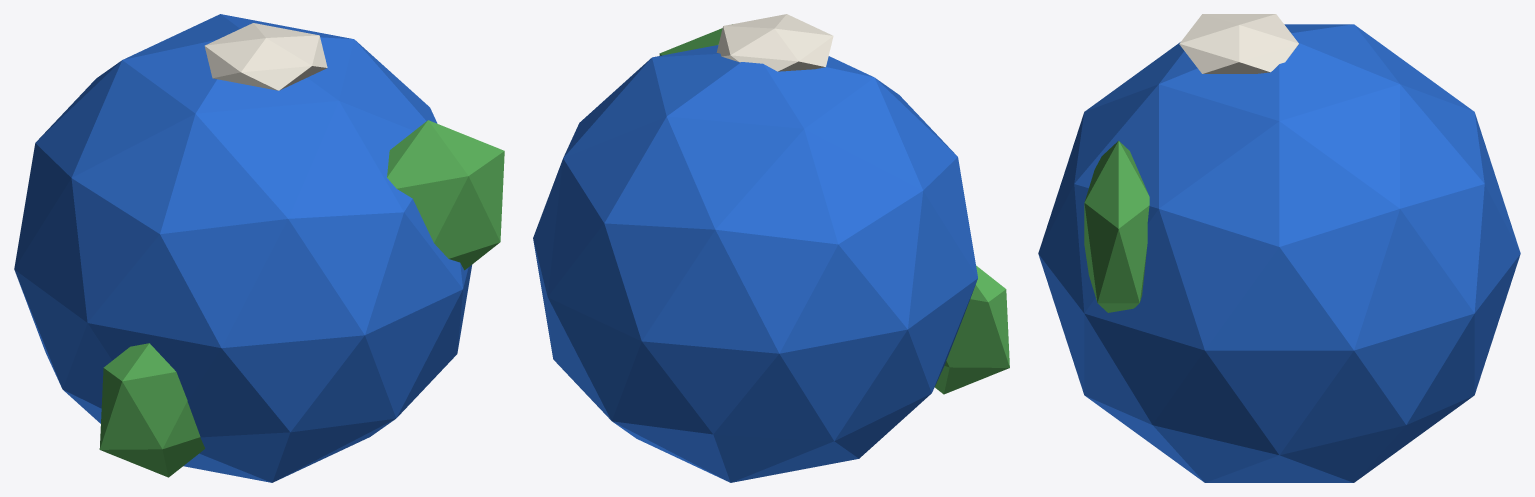
File: lowpoly-planet_earth.glb
The picture shows the model from 3 angles, left to right: view 1: azimuth 30°, elevation 25°; view 2: azimuth 150°, elevation 25°; view 3: azimuth 270°, elevation 25°; orthographic projection. The views are drawn at different scales.
Visible parts, largest first — view 1: planet_earth; view 2: planet_earth; view 3: planet_earth.
Boxes of the visible parts, x1,y1,x2,y2 form: planet_earth: [14, 14, 504, 482]; planet_earth: [533, 14, 1009, 482]; planet_earth: [1038, 14, 1520, 482].
Size of the model in its own units: 2.34 by 2.45 by 2.4.
